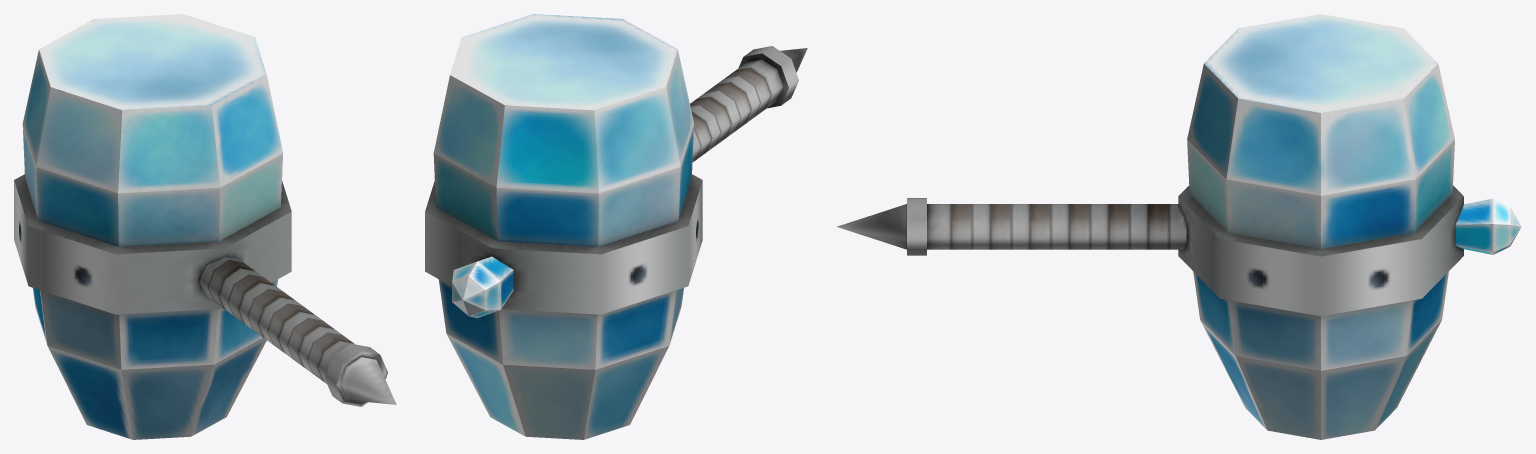
Rendered from club005.fbx.
The picture shows the model from 3 angles, left to right: view 1: azimuth 30°, elevation 25°; view 2: azimuth 150°, elevation 25°; view 3: azimuth 270°, elevation 25°; orthographic projection.
Parts seen in each view (by area): view 1: club005; view 2: club005; view 3: club005.
Part boxes in pixels (x1=…): club005: x1=14, y1=14, x2=396, y2=439; club005: x1=425, y1=14, x2=807, y2=439; club005: x1=836, y1=14, x2=1521, y2=439.
Bounding box in the file's own units: 0.2684 × 0.3572 × 0.6441.
